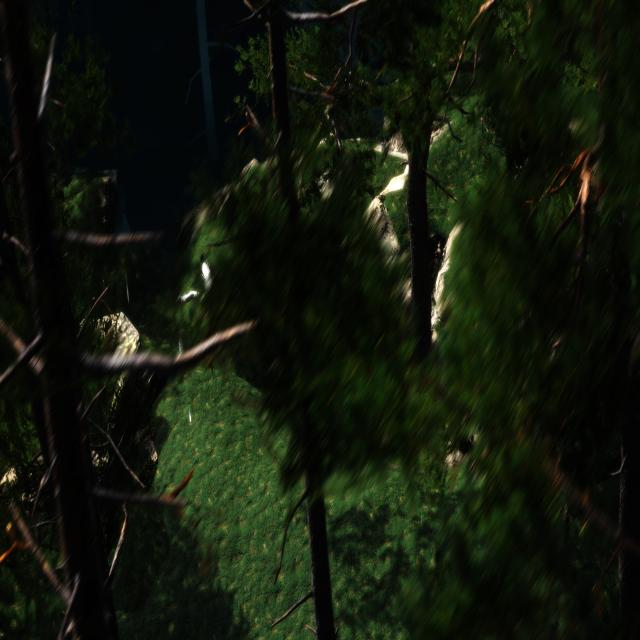Human: (177, 246, 221, 309)
